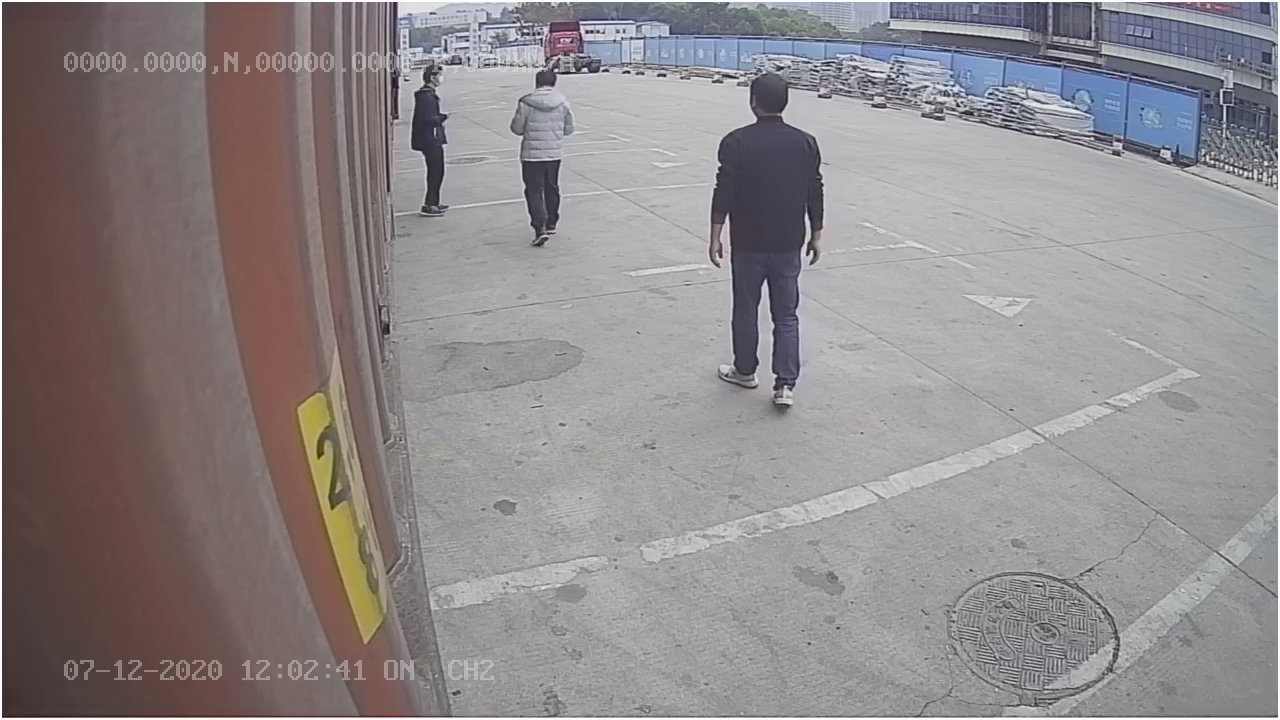person: (705, 65, 829, 413)
